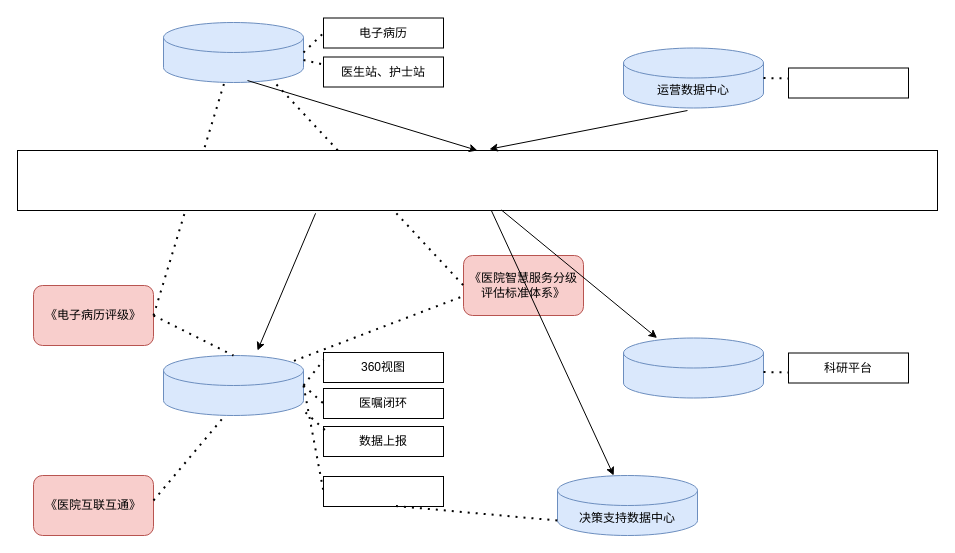
The diagram is 955 pixels wide and 553 high, and some of its shapes have lost their labels. The shapes that lost their labels are listed below. From the top down, each one's centre as x and y in pixels, then its label:
pixel 233 52: 临床数据中心
pixel 848 82: HRP系统
pixel 477 180: 数据湖（数据库表镜像）
pixel 233 385: 集成平台数据中心
pixel 693 367: 科研数据中心
pixel 383 491: 辅助决策
